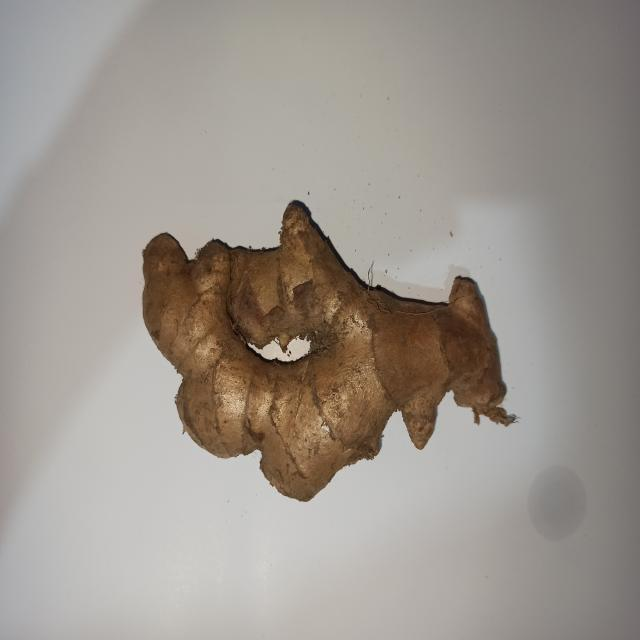ginger: (147, 214, 490, 490)
